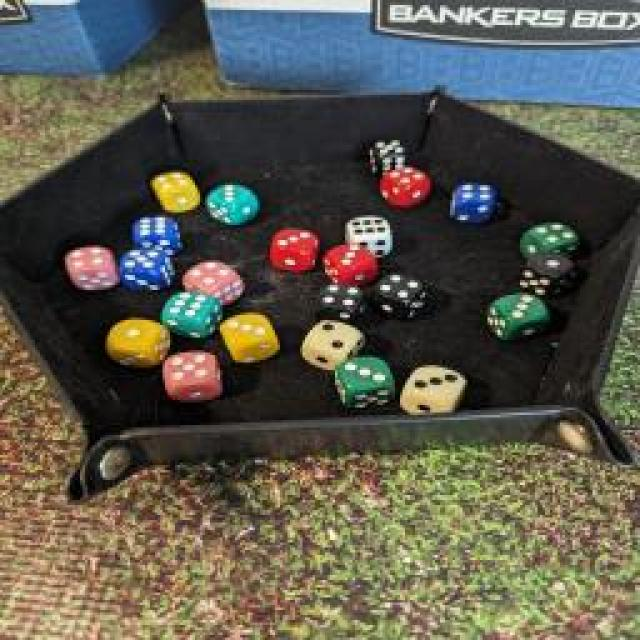dice_1: (104, 315, 171, 370), (518, 249, 580, 296)
dice_2: (298, 318, 368, 372)
dice_3: (477, 285, 555, 343), (325, 356, 405, 412), (398, 359, 470, 416), (220, 310, 282, 360), (198, 179, 260, 226), (320, 239, 378, 289), (265, 225, 323, 275)
dice_4: (179, 257, 246, 305), (366, 270, 429, 318), (144, 167, 206, 215), (310, 282, 370, 330), (66, 242, 122, 290), (442, 179, 502, 221), (515, 219, 577, 259), (368, 168, 438, 202)
dice_5: (151, 346, 229, 402), (112, 245, 172, 293), (366, 139, 412, 176)
dice_6: (151, 288, 234, 344), (339, 209, 396, 261), (128, 212, 184, 258)
